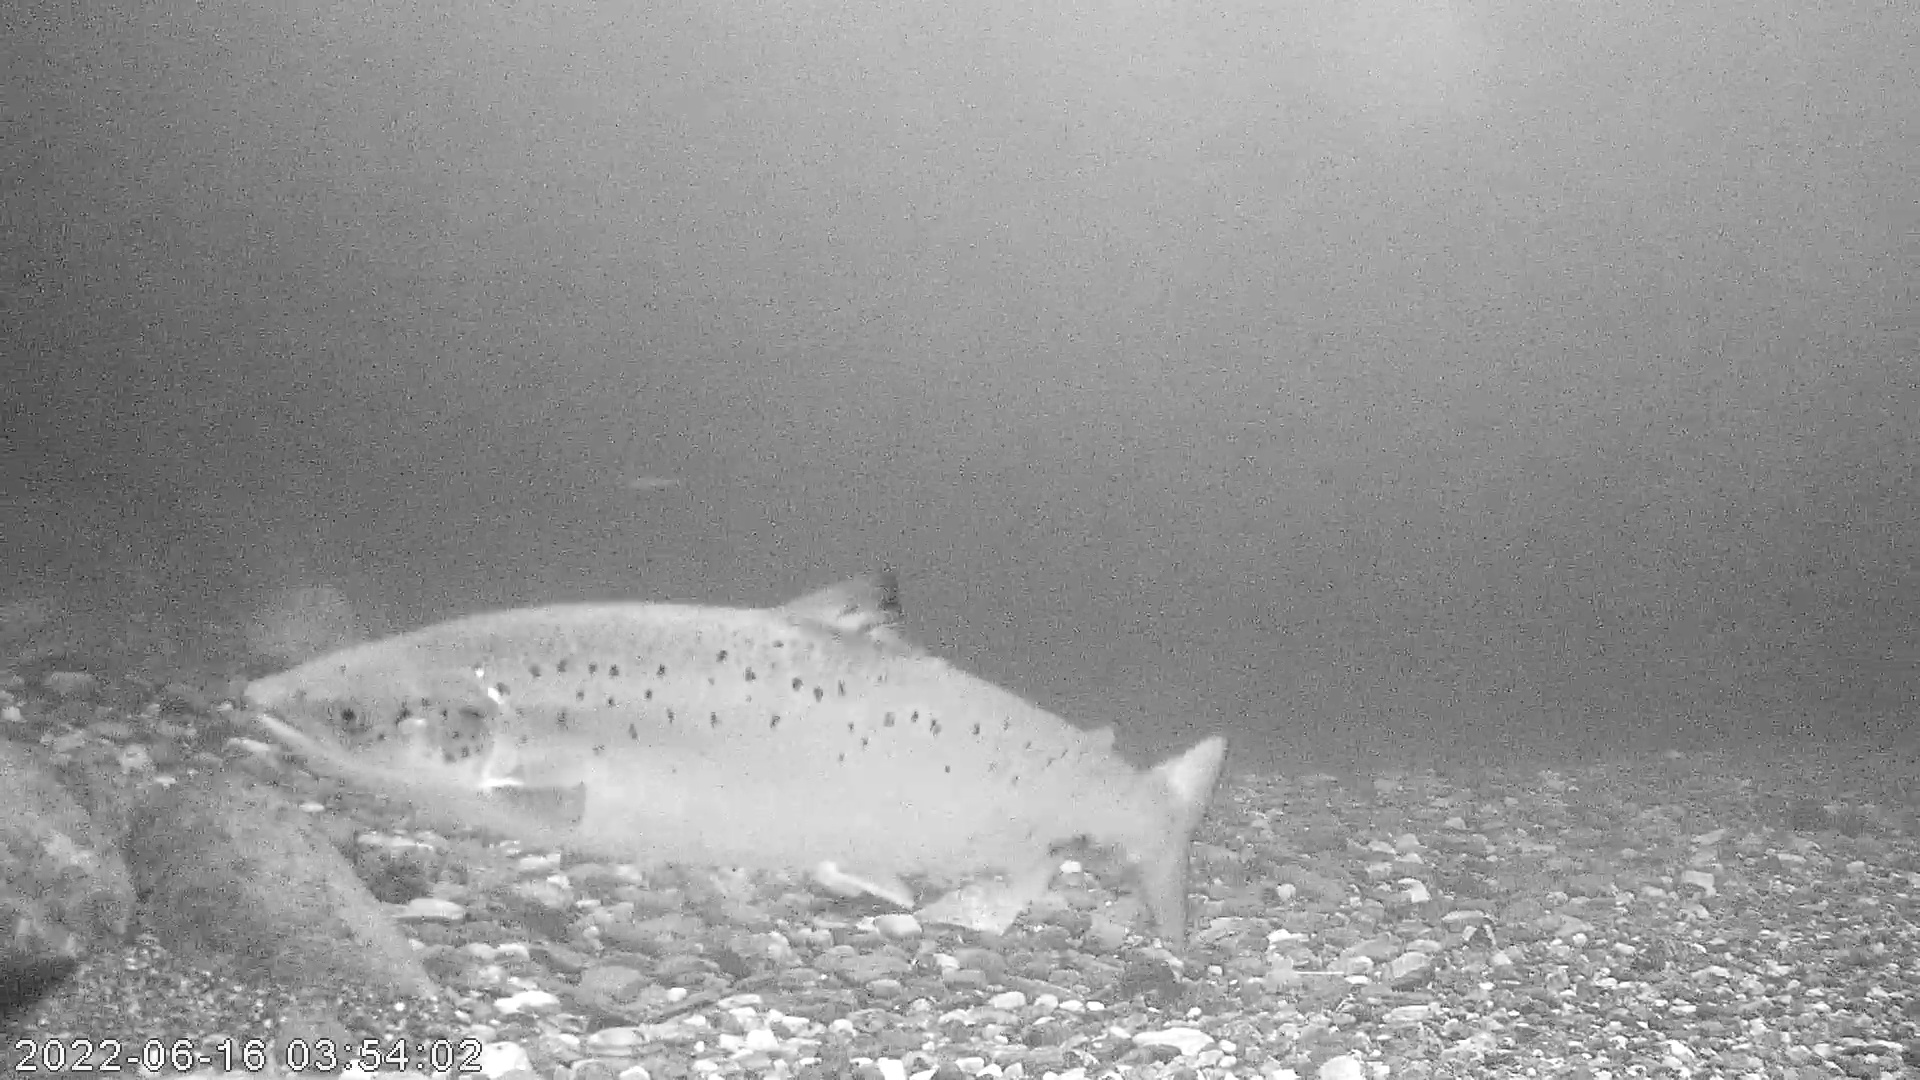salmon: (239, 560, 1232, 952)
